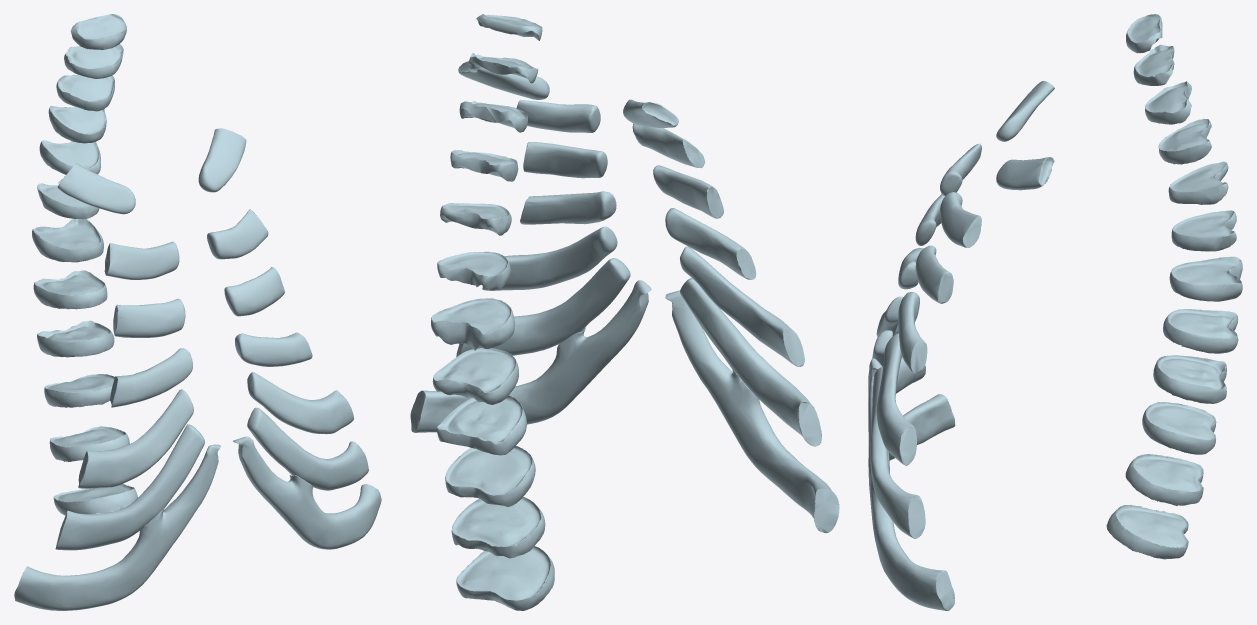
File: joints.thorax.glb
The picture shows the model from 3 angles, left to right: view 1: azimuth 30°, elevation 25°; view 2: azimuth 150°, elevation 25°; view 3: azimuth 270°, elevation 25°; orthographic projection. The views are drawn at different scales.
Visible parts, largest first — view 1: right_seventh_costal_cartilage, left_seventh_costal_cartilage, right_sixth_costal_cartilage, right_fifth_costal_cartilage, left_sixth_costal_cartilage, left_fifth_costal_cartilage, right_fourth_costal_cartilage, intervertebral_disk_of_sixth_thoracic_vertebra, right_third_costal_cartilage, right_second_costal_cartilage, right_first_costal_cartilage, intervertebral_disk_of_seventh_thoracic_vertebra (+14 smaller); view 2: right_seventh_costal_cartilage, left_seventh_costal_cartilage, right_sixth_costal_cartilage, left_sixth_costal_cartilage, intervertebral_disk_of_eleventh_thoracic_vertebra, intervertebral_disk_of_tenth_thoracic_vertebra, right_fifth_costal_cartilage, intervertebral_disk_of_ninth_thoracic_vertebra, intervertebral_disk_of_eighth_thoracic_vertebra, left_fifth_costal_cartilage, intervertebral_disk_of_seventh_thoracic_vertebra, intervertebral_disk_of_sixth_thoracic_vertebra (+14 smaller); view 3: left_seventh_costal_cartilage, intervertebral_disk_of_eleventh_thoracic_vertebra, intervertebral_disk_of_tenth_thoracic_vertebra, left_sixth_costal_cartilage, intervertebral_disk_of_ninth_thoracic_vertebra, intervertebral_disk_of_eighth_thoracic_vertebra, left_fifth_costal_cartilage, intervertebral_disk_of_seventh_thoracic_vertebra, intervertebral_disk_of_sixth_thoracic_vertebra, intervertebral_disk_of_fifth_thoracic_vertebra, intervertebral_disk_of_fourth_thoracic_vertebra, right_seventh_costal_cartilage (+14 smaller).
Part boxes in pixels (box(x1,y1,x2,y2)): right_seventh_costal_cartilage: box(14, 444, 220, 610); left_seventh_costal_cartilage: box(233, 436, 381, 549); right_sixth_costal_cartilage: box(55, 424, 204, 550); right_fifth_costal_cartilage: box(78, 389, 193, 488); left_sixth_costal_cartilage: box(247, 407, 368, 490); left_fifth_costal_cartilage: box(247, 372, 354, 434); right_fourth_costal_cartilage: box(110, 348, 192, 407); intervertebral_disk_of_sixth_thoracic_vertebra: box(32, 218, 103, 262); right_third_costal_cartilage: box(113, 298, 185, 337); right_second_costal_cartilage: box(104, 241, 179, 279); right_first_costal_cartilage: box(57, 163, 135, 214); intervertebral_disk_of_seventh_thoracic_vertebra: box(33, 270, 107, 309); right_seventh_costal_cartilage: box(665, 290, 839, 533); left_seventh_costal_cartilage: box(410, 280, 651, 432); right_sixth_costal_cartilage: box(680, 278, 821, 446); left_sixth_costal_cartilage: box(456, 258, 630, 356); intervertebral_disk_of_eleventh_thoracic_vertebra: box(456, 546, 554, 610); intervertebral_disk_of_tenth_thoracic_vertebra: box(451, 496, 545, 558); right_fifth_costal_cartilage: box(680, 246, 804, 366); intervertebral_disk_of_ninth_thoracic_vertebra: box(445, 446, 535, 506); intervertebral_disk_of_eighth_thoracic_vertebra: box(437, 395, 526, 455); left_fifth_costal_cartilage: box(482, 226, 617, 290); intervertebral_disk_of_seventh_thoracic_vertebra: box(432, 348, 518, 404); intervertebral_disk_of_sixth_thoracic_vertebra: box(431, 298, 514, 350); left_seventh_costal_cartilage: box(868, 376, 954, 610); intervertebral_disk_of_eleventh_thoracic_vertebra: box(1106, 504, 1188, 559); intervertebral_disk_of_tenth_thoracic_vertebra: box(1125, 454, 1203, 505); left_sixth_costal_cartilage: box(870, 366, 925, 538); intervertebral_disk_of_ninth_thoracic_vertebra: box(1142, 402, 1216, 454); intervertebral_disk_of_eighth_thoracic_vertebra: box(1153, 355, 1226, 403); left_fifth_costal_cartilage: box(876, 333, 917, 465); intervertebral_disk_of_seventh_thoracic_vertebra: box(1163, 309, 1238, 353); intervertebral_disk_of_sixth_thoracic_vertebra: box(1169, 256, 1242, 301); intervertebral_disk_of_fifth_thoracic_vertebra: box(1171, 210, 1236, 251); intervertebral_disk_of_fourth_thoracic_vertebra: box(1168, 161, 1228, 204); right_seventh_costal_cartilage: box(868, 358, 955, 460).
Bounding box in the file's own units: 0.2184 × 0.2801 × 0.1826.
